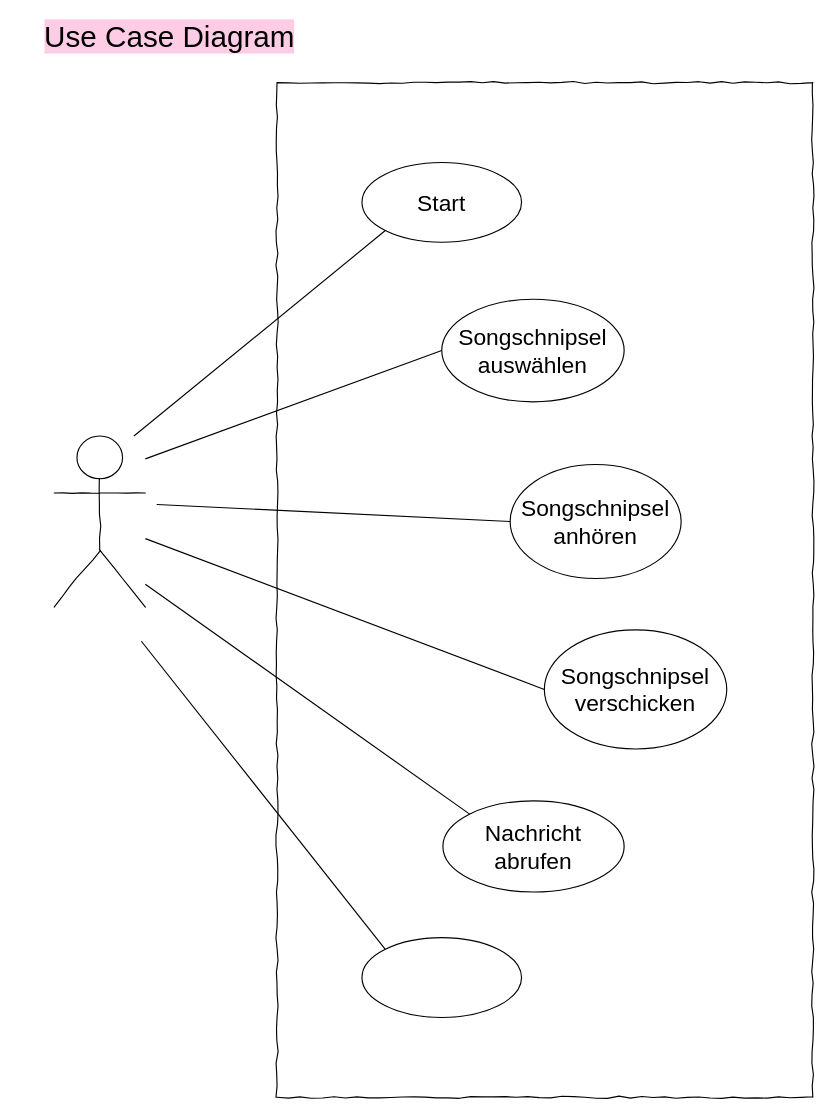
Some shapes in this 832 by 1117 pixel diagram are drawn without their labels. Here are the shapes that lost their labels. From the top down, the centre of each, then its label:
At [99,521]: "User".
At [441,977]: "Ende".
